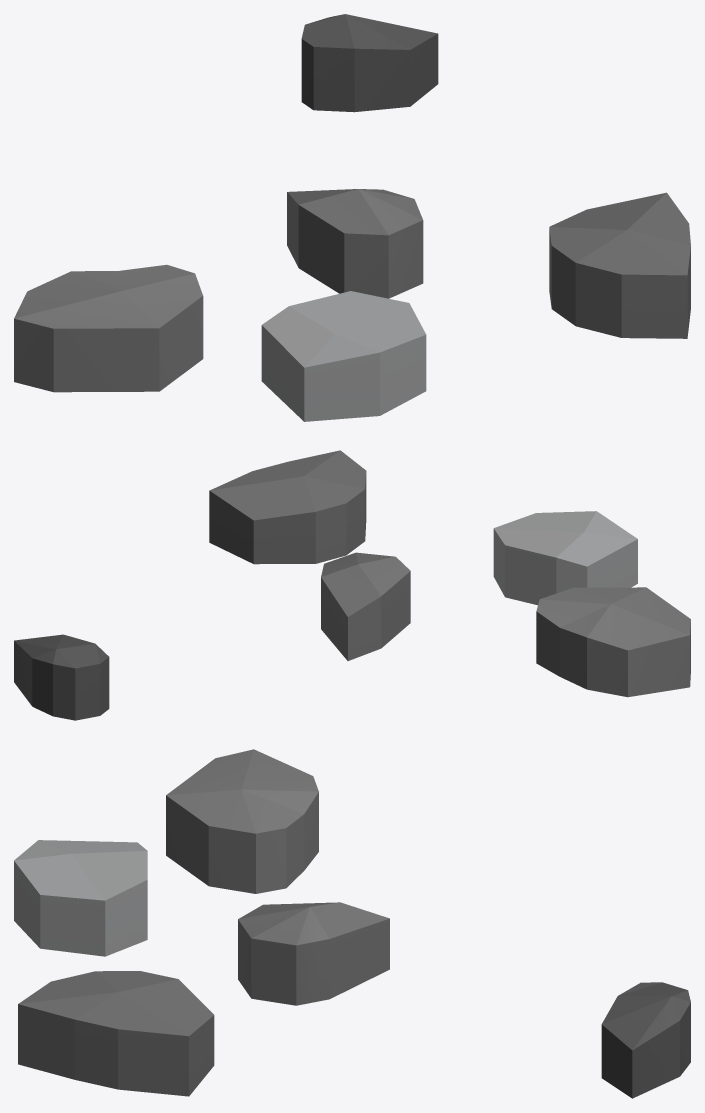
File: Stone_F.fbx
3 renders of one model, top to bottom at view 1: azimuth 30°, elevation 25°; view 2: azimuth 150°, elevation 25°; view 3: azimuth 270°, elevation 25°, orthographic. The views are drawn at different scales.
Parts seen in each view (by area): view 1: Stone_F; view 2: Stone_F; view 3: Stone_F.
Boxes of the visible parts, x1=… form: Stone_F: x1=14, y1=14, x2=690, y2=421; Stone_F: x1=14, y1=450, x2=690, y2=720; Stone_F: x1=14, y1=749, x2=690, y2=1098.
Bounding box in the file's own units: 185 × 22.71 × 183.
